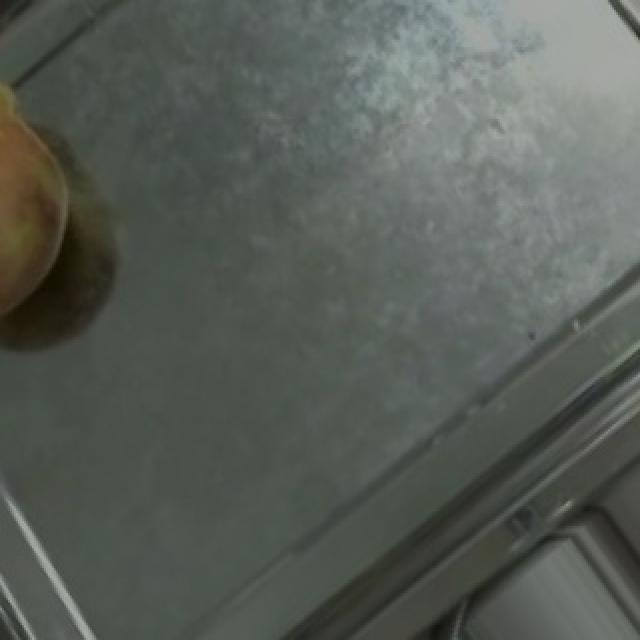Fruit: (0, 32, 110, 355)
